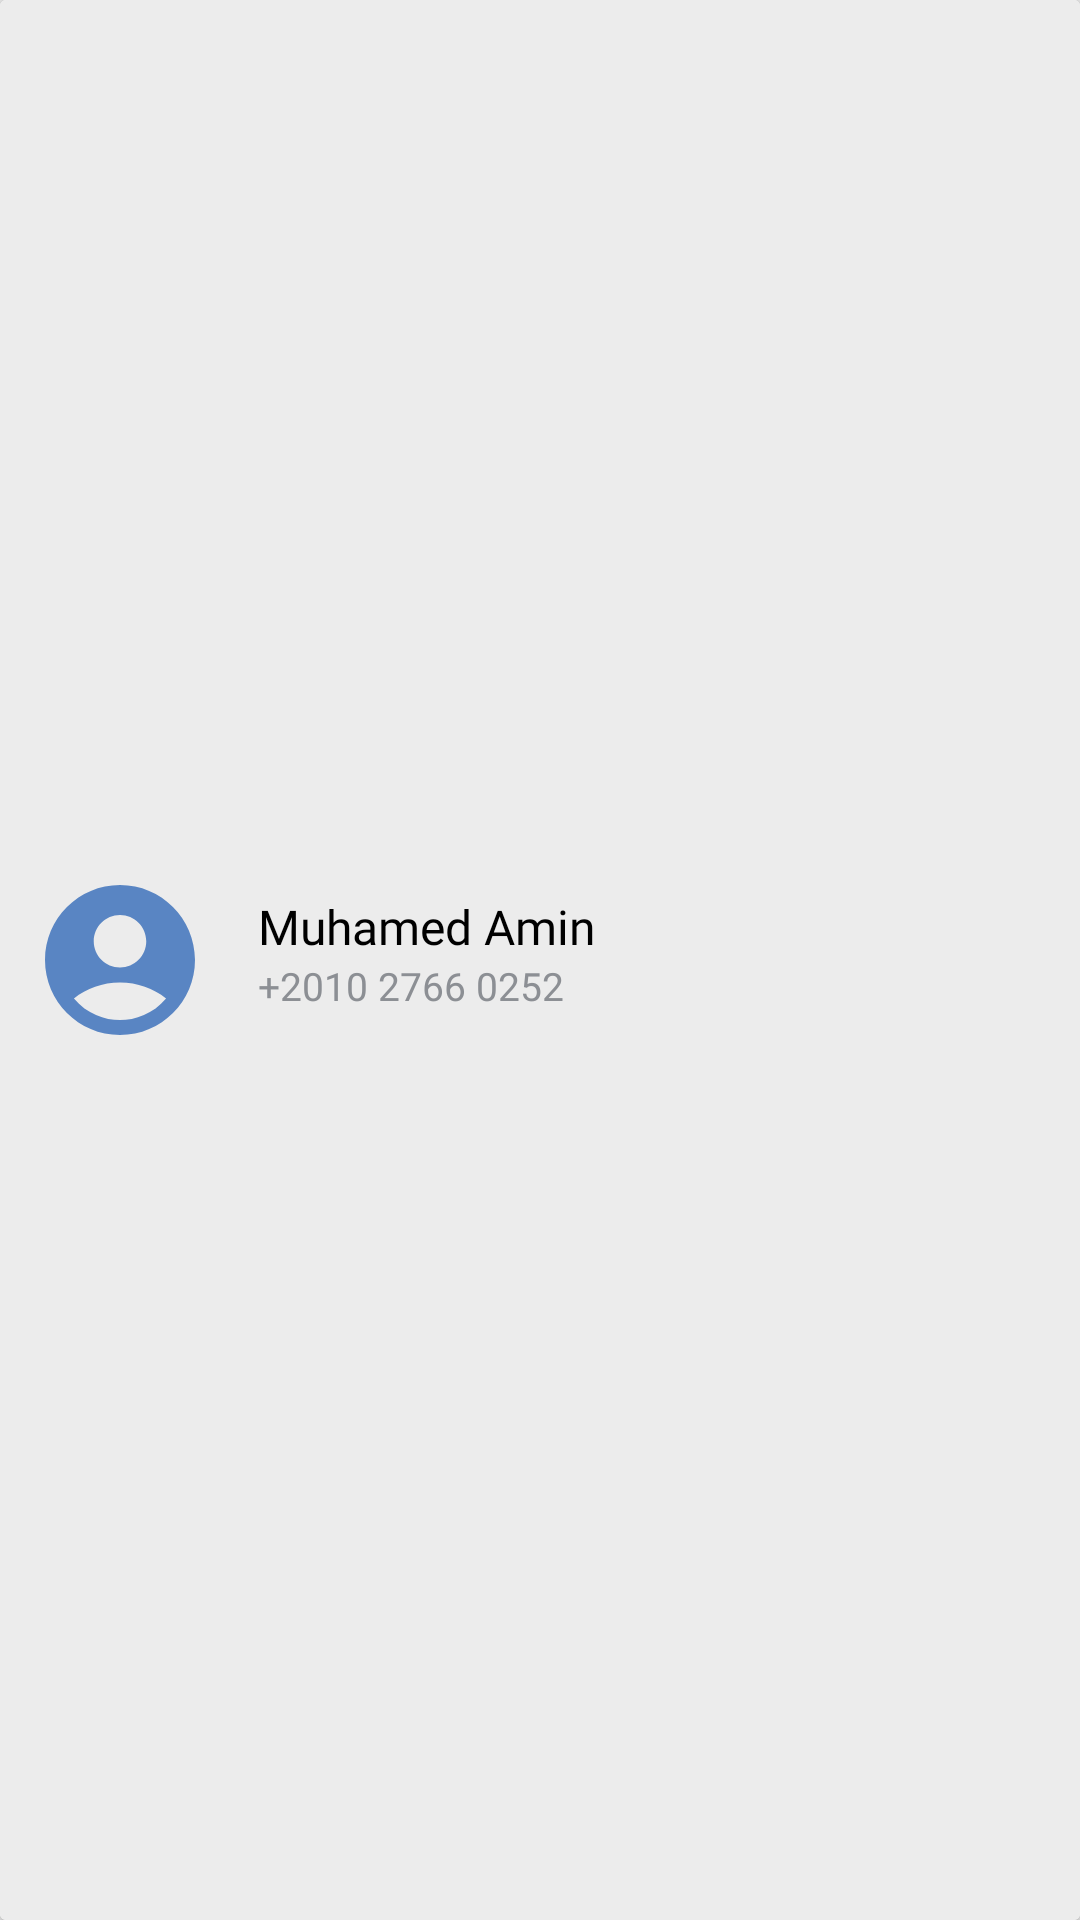

Where to tap for icons on this 1080*1920 app screen, as (x,y):
account circle: (120,960)
